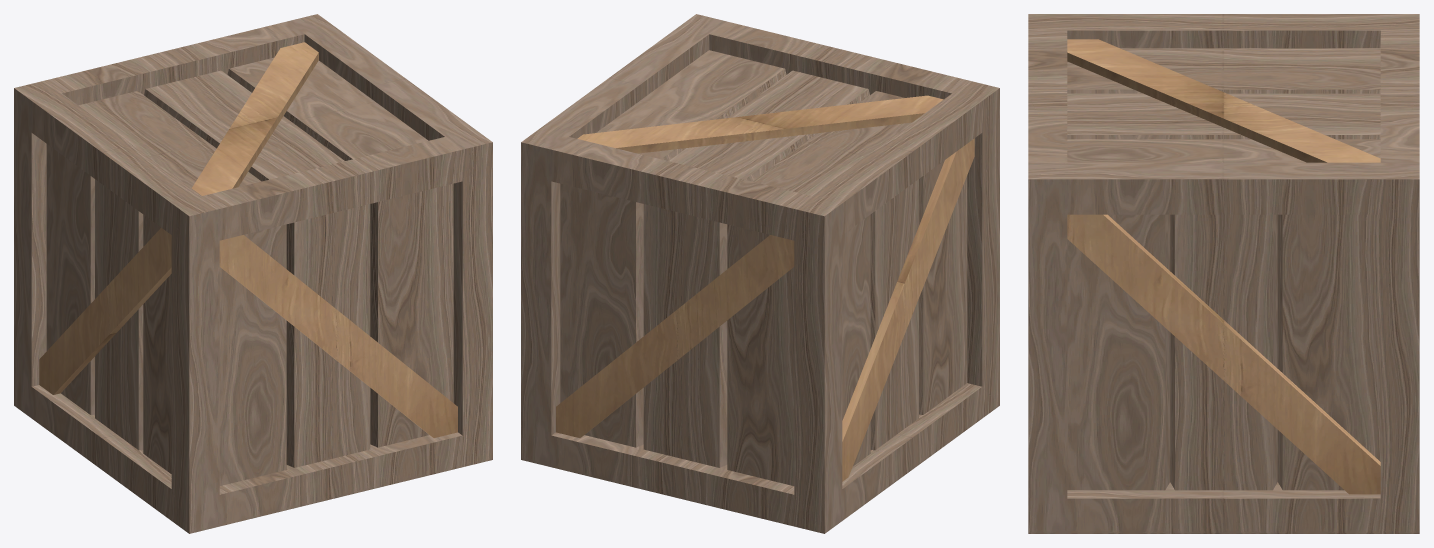
File: ClosedCrate.obj
3 views of the same model, side by side, from view 1: azimuth 30°, elevation 25°; view 2: azimuth 150°, elevation 25°; view 3: azimuth 270°, elevation 25° (orthographic). The views are drawn at different scales.
Size of the model in its own units: 1 by 1 by 1.
Materials: 3 (3 with a texture image).
